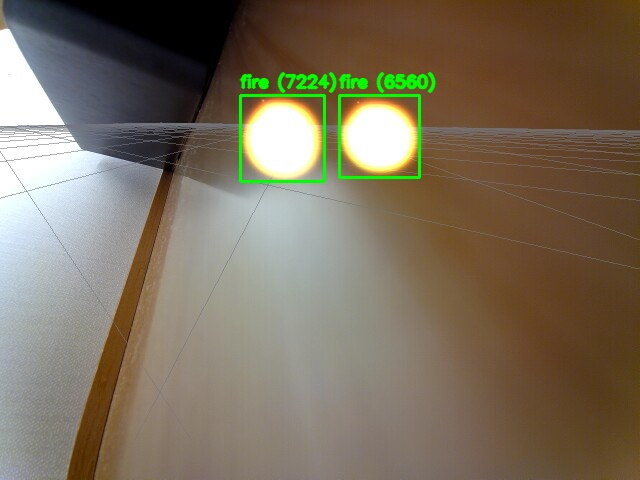fire: (240, 95, 324, 181), (339, 95, 419, 177)
